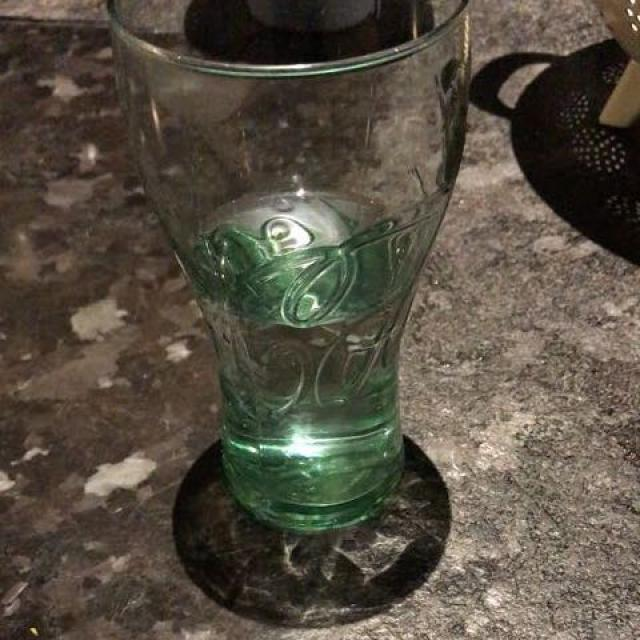water: (196, 190, 428, 515)
